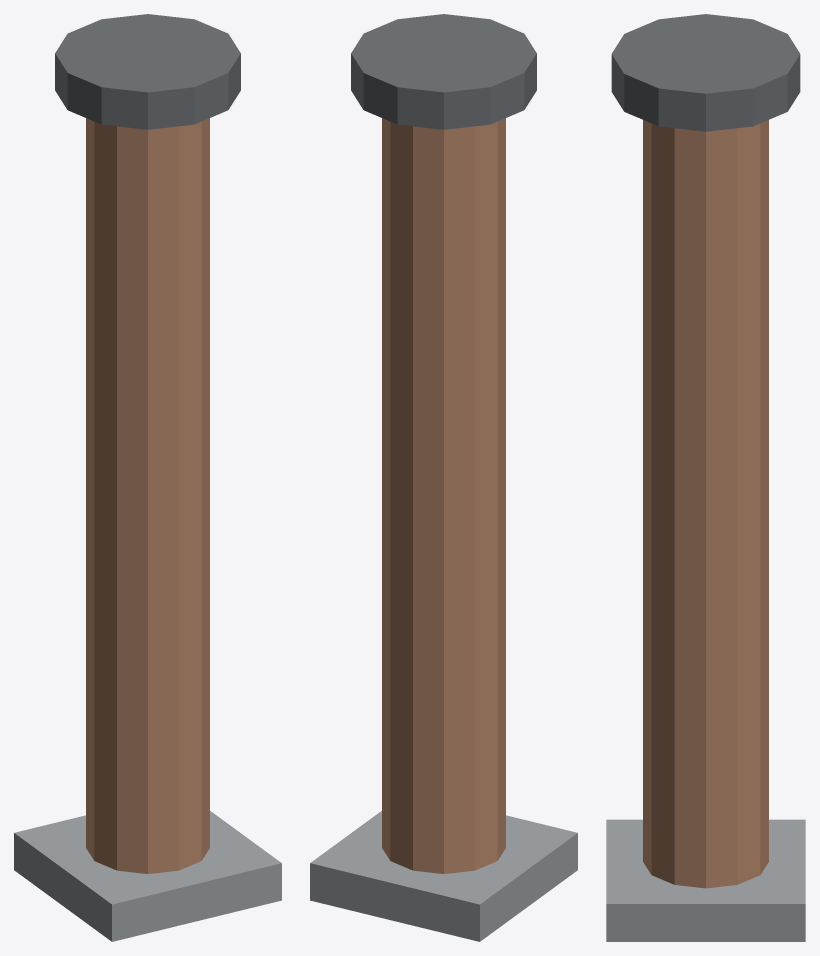
Rendered from exhaust_stack_02.glb.
3 renders of one model, left to right at view 1: azimuth 30°, elevation 25°; view 2: azimuth 150°, elevation 25°; view 3: azimuth 270°, elevation 25°, orthographic.
Parts seen in each view (by area): view 1: stack, base, cap; view 2: stack, base, cap; view 3: stack, cap, base.
Part boxes in pixels (x1,y1,x2,y2): stack: [86, 118, 209, 873]; base: [14, 811, 281, 941]; cap: [55, 14, 240, 129]; stack: [382, 118, 505, 873]; base: [310, 811, 577, 941]; cap: [351, 14, 536, 129]; stack: [643, 120, 768, 888]; cap: [611, 14, 800, 131]; base: [606, 819, 805, 941].
Bounding box in the file's own units: 0.38 × 1.78 × 0.38.
